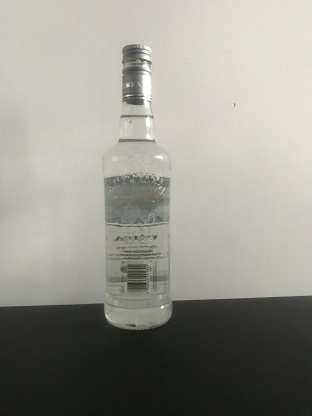nakretka: (120, 42, 153, 105)
